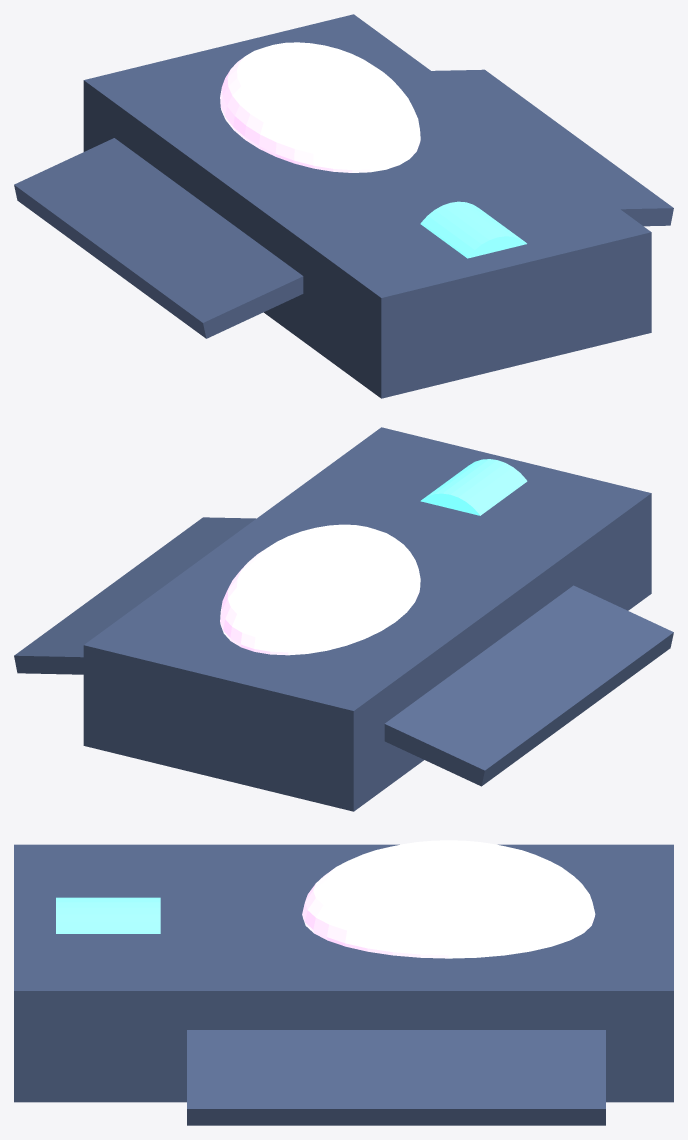
The model's file is warden.glb.
The picture shows the model from 3 angles, top to bottom: view 1: azimuth 30°, elevation 25°; view 2: azimuth 150°, elevation 25°; view 3: azimuth 270°, elevation 25°; orthographic projection. The views are drawn at different scales.
Parts seen in each view (by area): view 1: Cube, Cube.002, Sphere, Cube.001, Cylinder.002; view 2: Cube, Cube.002, Sphere, Cube.001, Cylinder.002; view 3: Cube, Cube.001, Sphere, Cylinder.002.
Boxes of the visible parts, bbox=[...] form: Cube: bbox=[83, 14, 651, 398]; Cube.002: bbox=[14, 138, 303, 338]; Sphere: bbox=[220, 42, 420, 172]; Cube.001: bbox=[432, 69, 673, 226]; Cylinder.002: bbox=[420, 201, 526, 258]; Cube: bbox=[83, 427, 651, 811]; Cube.002: bbox=[384, 585, 673, 786]; Sphere: bbox=[220, 524, 420, 655]; Cube.001: bbox=[14, 517, 255, 674]; Cylinder.002: bbox=[420, 459, 527, 515]; Cube: bbox=[14, 844, 673, 1102]; Cube.001: bbox=[187, 1030, 605, 1125]; Sphere: bbox=[302, 840, 595, 958]; Cylinder.002: bbox=[56, 897, 160, 933].
Bounding box in the file's own units: 2.3 × 0.745 × 2.52.
